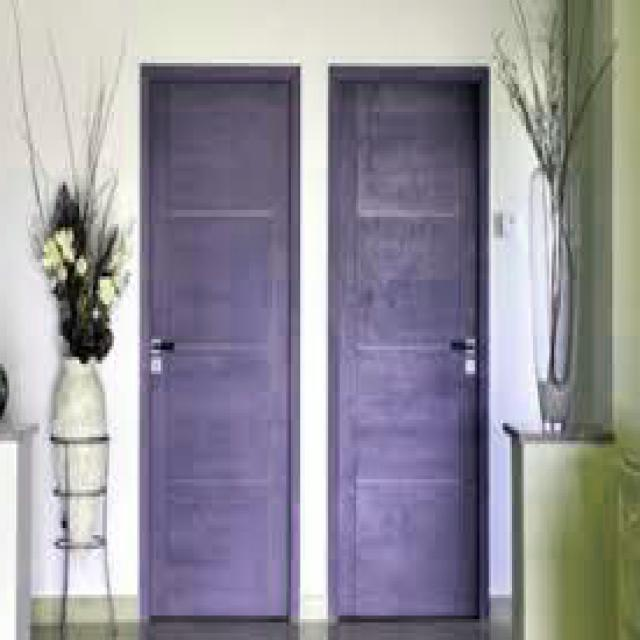door: (327, 65, 486, 621), (139, 64, 297, 622)
